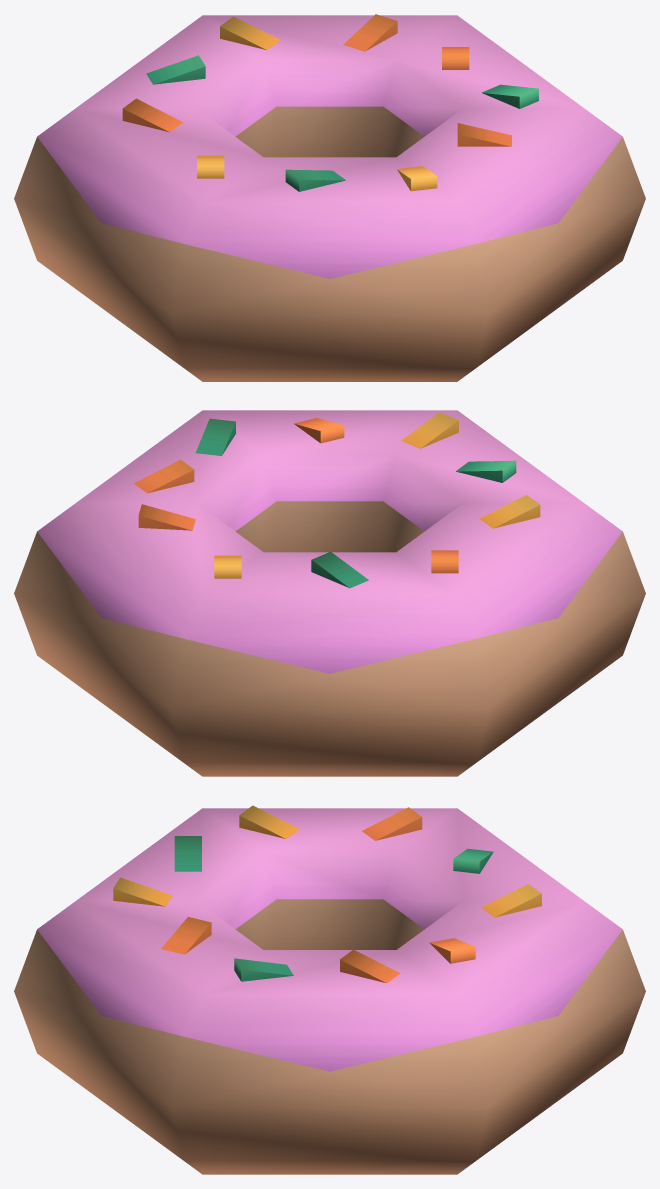
The model's file is donut-sprinkles.glb.
The picture shows the model from 3 angles, top to bottom: view 1: azimuth 30°, elevation 25°; view 2: azimuth 150°, elevation 25°; view 3: azimuth 270°, elevation 25°; orthographic projection.
Visible parts, largest first — view 1: donut-sprinkles; view 2: donut-sprinkles; view 3: donut-sprinkles.
Part boxes in pixels (x1,y1,x2,y2): donut-sprinkles: [14, 14, 645, 381]; donut-sprinkles: [14, 410, 645, 776]; donut-sprinkles: [14, 805, 645, 1174].
Bounding box in the file's own units: 0.2451 × 0.095 × 0.283.
1 material, 1 textured.
